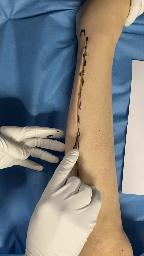scalpel: (66, 135, 80, 183)
